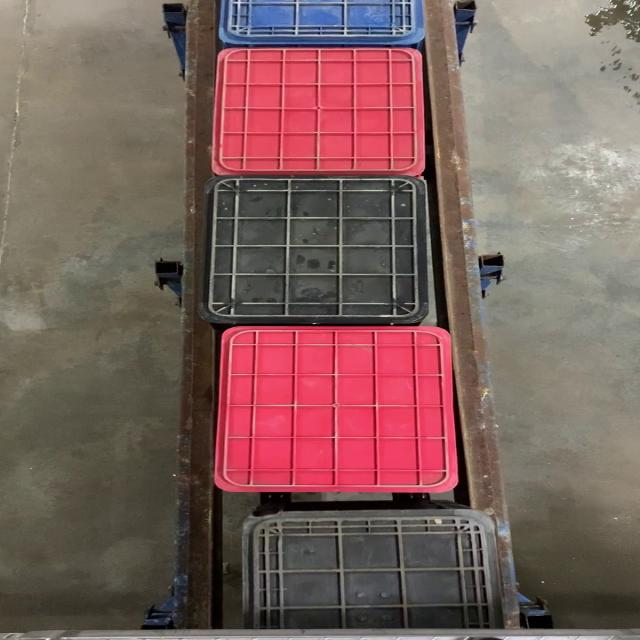Box: (212, 324, 464, 493), (196, 175, 434, 325), (213, 47, 426, 173)
